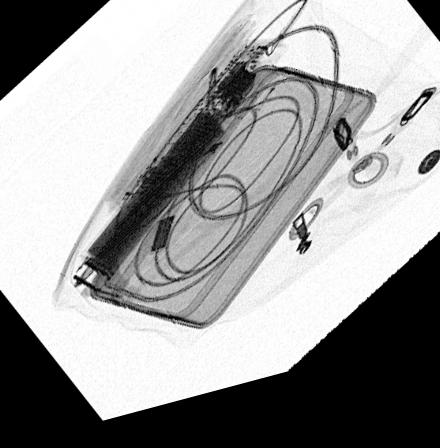Powerbank: (81, 53, 288, 285)
